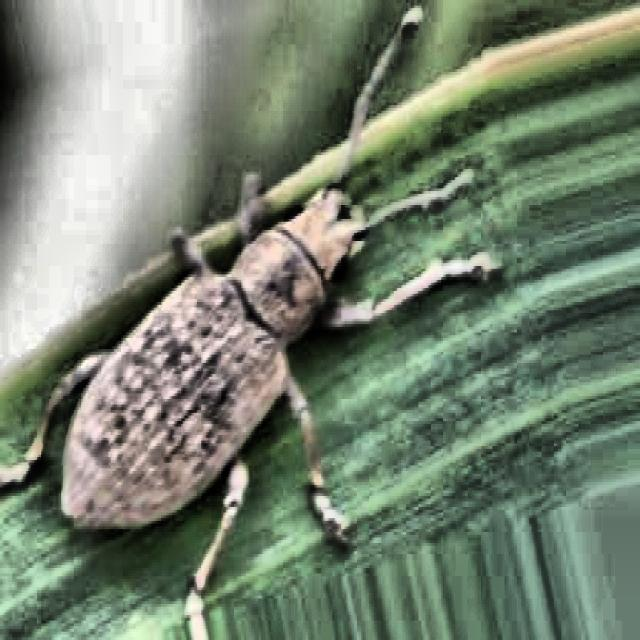Stink bug: (36, 84, 434, 606)
